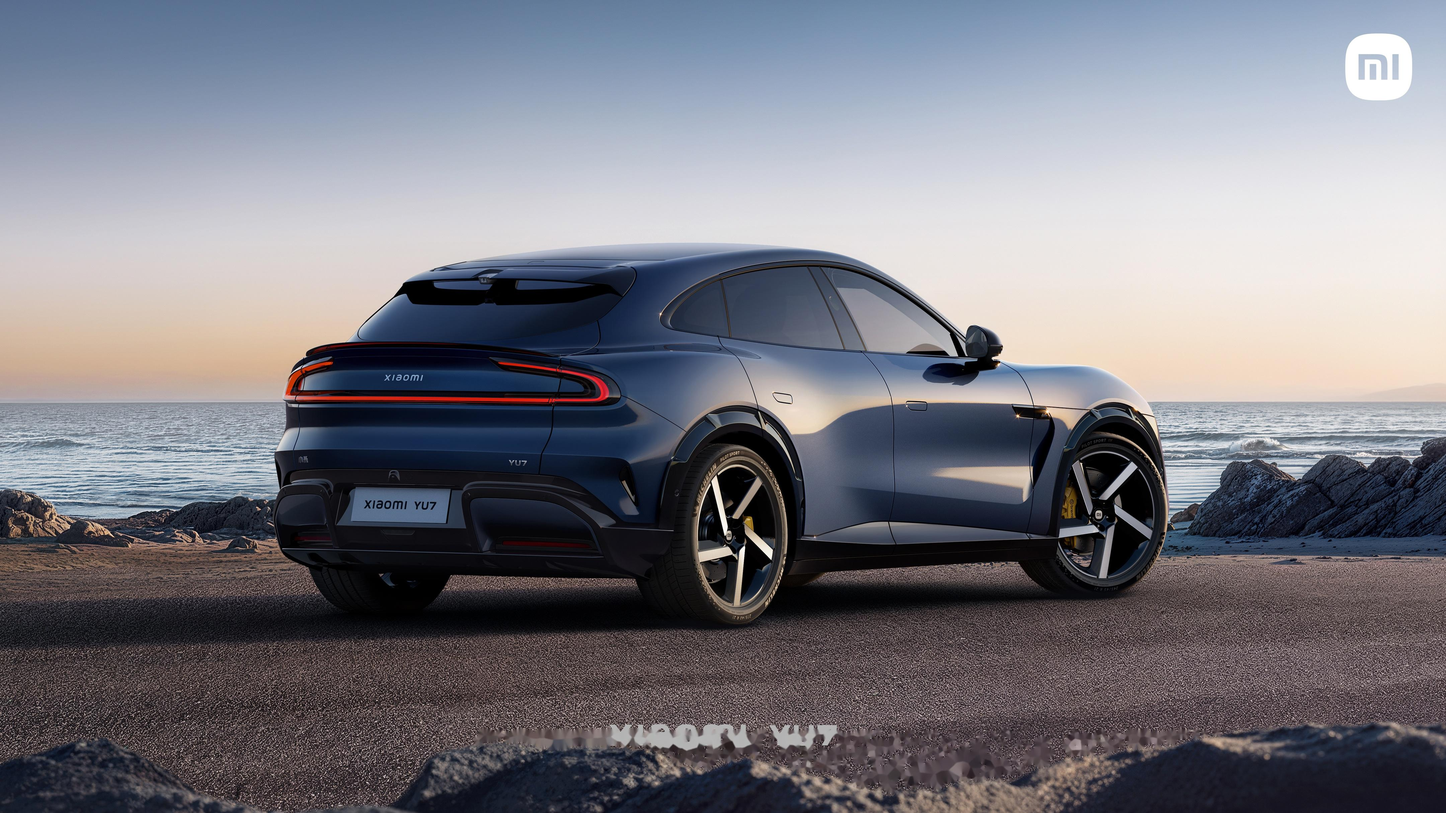other: (261, 246, 1170, 609)
